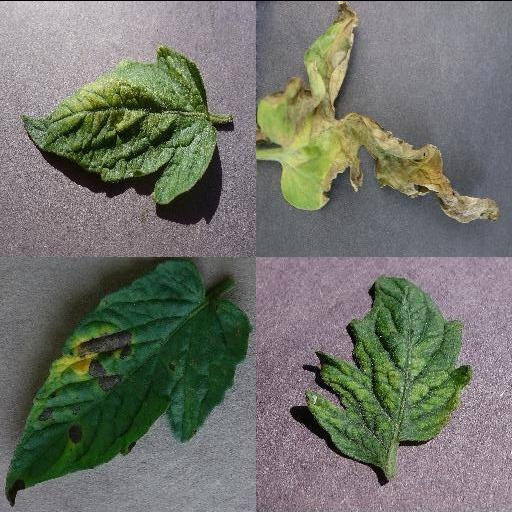Early Blight: (4, 258, 252, 504)
Late Blight: (256, 1, 500, 224)
Mosaic Virus: (305, 275, 473, 467)
Spider Mites: (21, 44, 219, 203)
